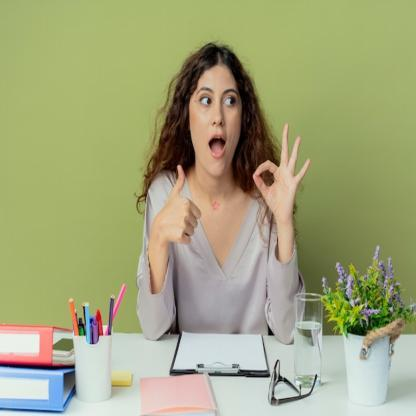ok: (252, 122, 314, 218)
thumb_up: (154, 162, 204, 248)
